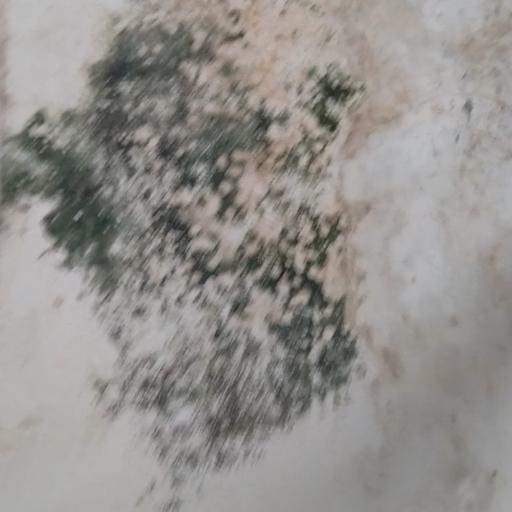algae: (6, 0, 376, 471)
